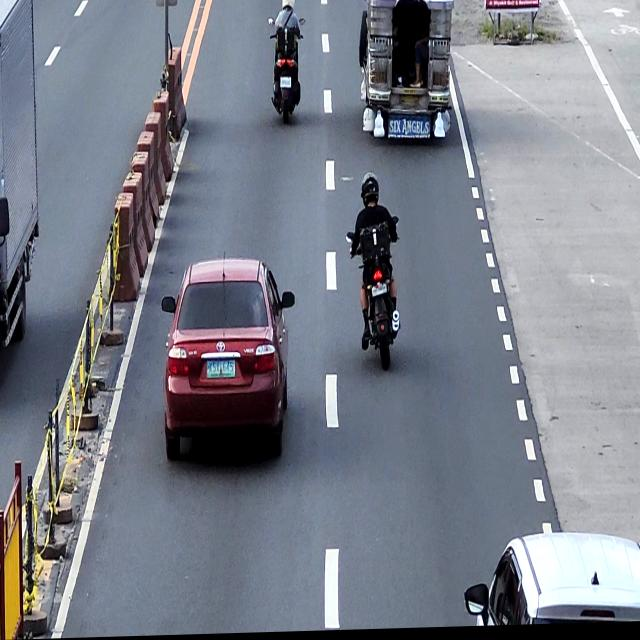Car: (161, 254, 295, 462), (463, 531, 640, 629)
Jeep: (358, 0, 454, 145)
License-Plate: (206, 359, 236, 381), (372, 284, 388, 299), (280, 78, 292, 90)
Motorcycle: (346, 218, 400, 373), (267, 17, 305, 126)
